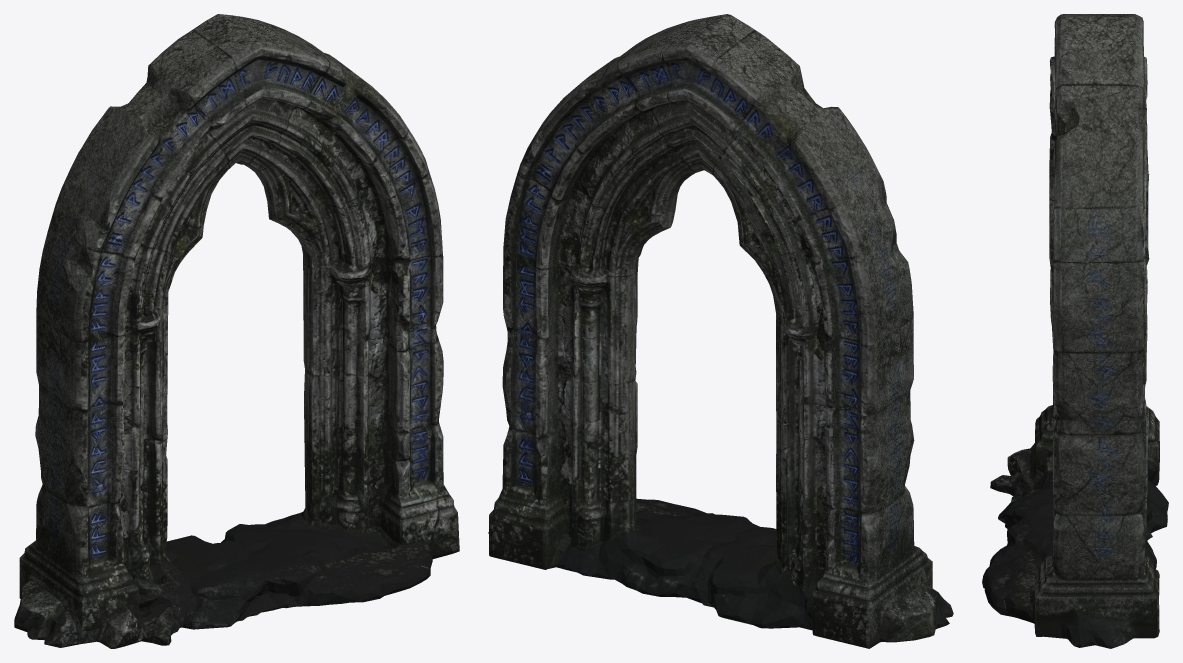
Rendered from archway.glb.
The picture shows the model from 3 angles, left to right: view 1: azimuth 30°, elevation 25°; view 2: azimuth 150°, elevation 25°; view 3: azimuth 270°, elevation 25°; orthographic projection. The views are drawn at different scales.
Parts seen in each view (by area): view 1: lo; view 2: lo; view 3: lo.
Part boxes in pixels (x1,y1,x2,y2): lo: (14, 14, 459, 648); lo: (488, 14, 953, 648); lo: (982, 14, 1168, 648).
Bounding box in the file's own units: 2.99 × 3.6 × 1.14.
Materials: 1 (1 with a texture image).
